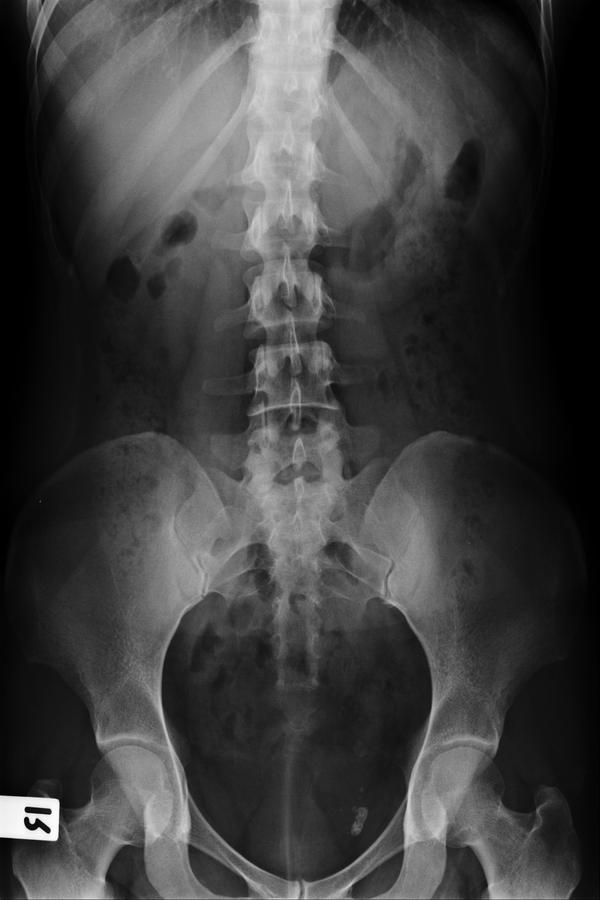lumbar scoliosis: (239, 132, 351, 506)
